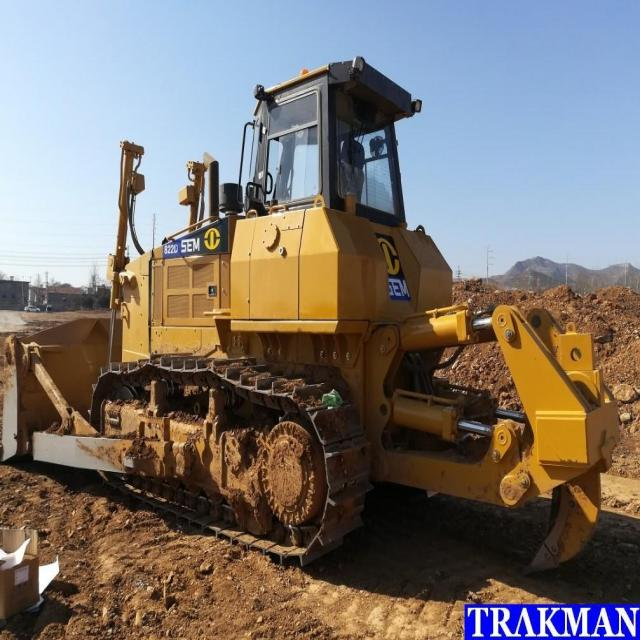Bulldozer: (8, 20, 639, 584)
